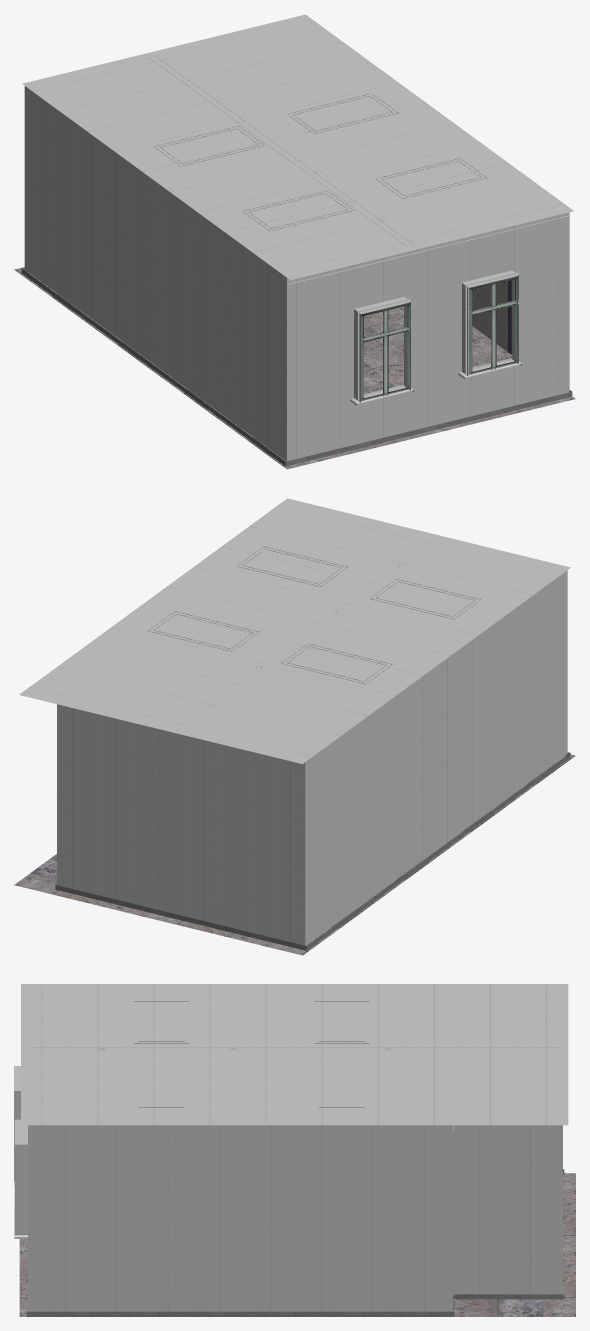
The model's file is relleyNa1.fbx.
3 renders of one model, top to bottom at view 1: azimuth 30°, elevation 25°; view 2: azimuth 150°, elevation 25°; view 3: azimuth 270°, elevation 25°, orthographic.
Parts seen in each view (by area): view 1: walls.011, walls.012, walls.013, plastic.001, plastic.003, door.004; view 2: walls.011, walls.012, walls.013; view 3: walls.011, walls.012, walls.013, plastic.001, walls.015.
Boxes of the visible parts, x1=… form: walls.011: x1=21, y1=86, x2=572, y2=466; walls.012: x1=22, y1=14, x2=573, y2=280; walls.013: x1=14, y1=267, x2=575, y2=469; plastic.001: x1=350, y1=270, x2=521, y2=405; plastic.003: x1=360, y1=276, x2=517, y2=400; door.004: x1=472, y1=281, x2=507, y2=350; walls.011: x1=55, y1=570, x2=570, y2=950; walls.012: x1=19, y1=498, x2=570, y2=763; walls.013: x1=14, y1=754, x2=575, y2=955; walls.011: x1=26, y1=1125, x2=564, y2=1316; walls.012: x1=21, y1=984, x2=568, y2=1125; walls.013: x1=19, y1=1173, x2=575, y2=1316; plastic.001: x1=14, y1=1066, x2=27, y2=1238; walls.015: x1=27, y1=1047, x2=559, y2=1130.
Size of the model in its own units: 447 by 278 by 739.
